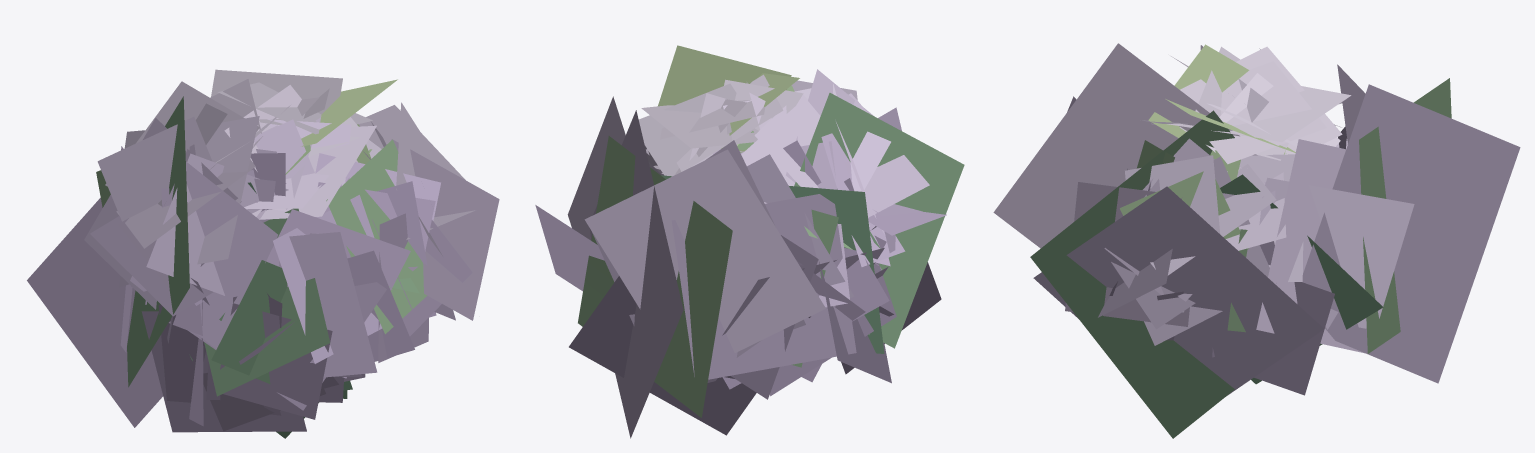
The model's file is lilac_tree_v4.glb.
The picture shows the model from 3 angles, left to right: view 1: azimuth 30°, elevation 25°; view 2: azimuth 150°, elevation 25°; view 3: azimuth 270°, elevation 25°; orthographic projection. The views are drawn at different scales.
Visible parts, largest first — view 1: near, far; view 2: far, near; view 3: far, near.
Part boxes in pixels (x1,y1,x2,y2): near: [84, 69, 499, 438]; far: [27, 96, 285, 427]; far: [535, 93, 964, 438]; near: [630, 45, 946, 374]; far: [993, 43, 1520, 438]; near: [1065, 44, 1351, 395].
Bounding box in the file's own units: 8.33 × 7.7 × 10.68.
